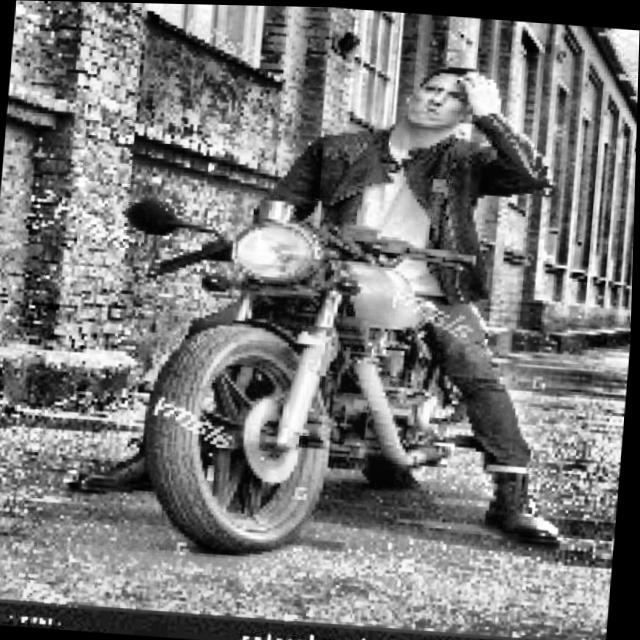motorcycle: (110, 176, 548, 571)
